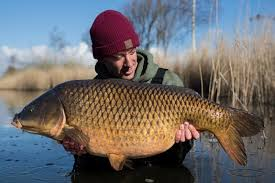carp: (11, 78, 267, 172)
